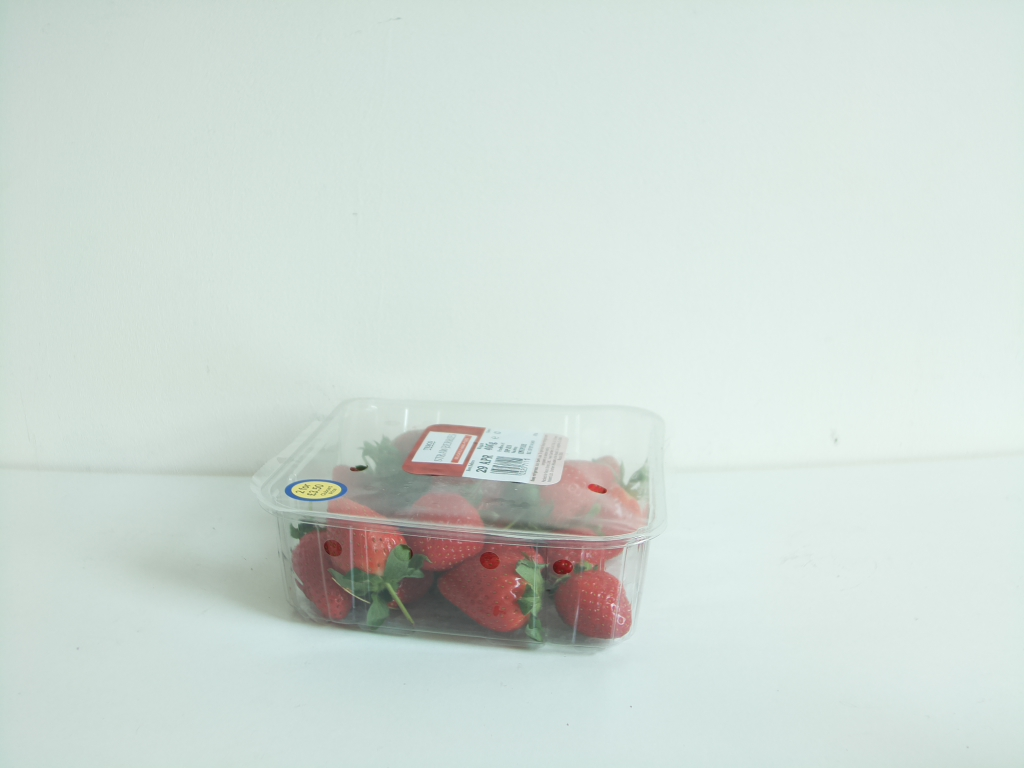soft-fruit: (254, 389, 663, 659)
